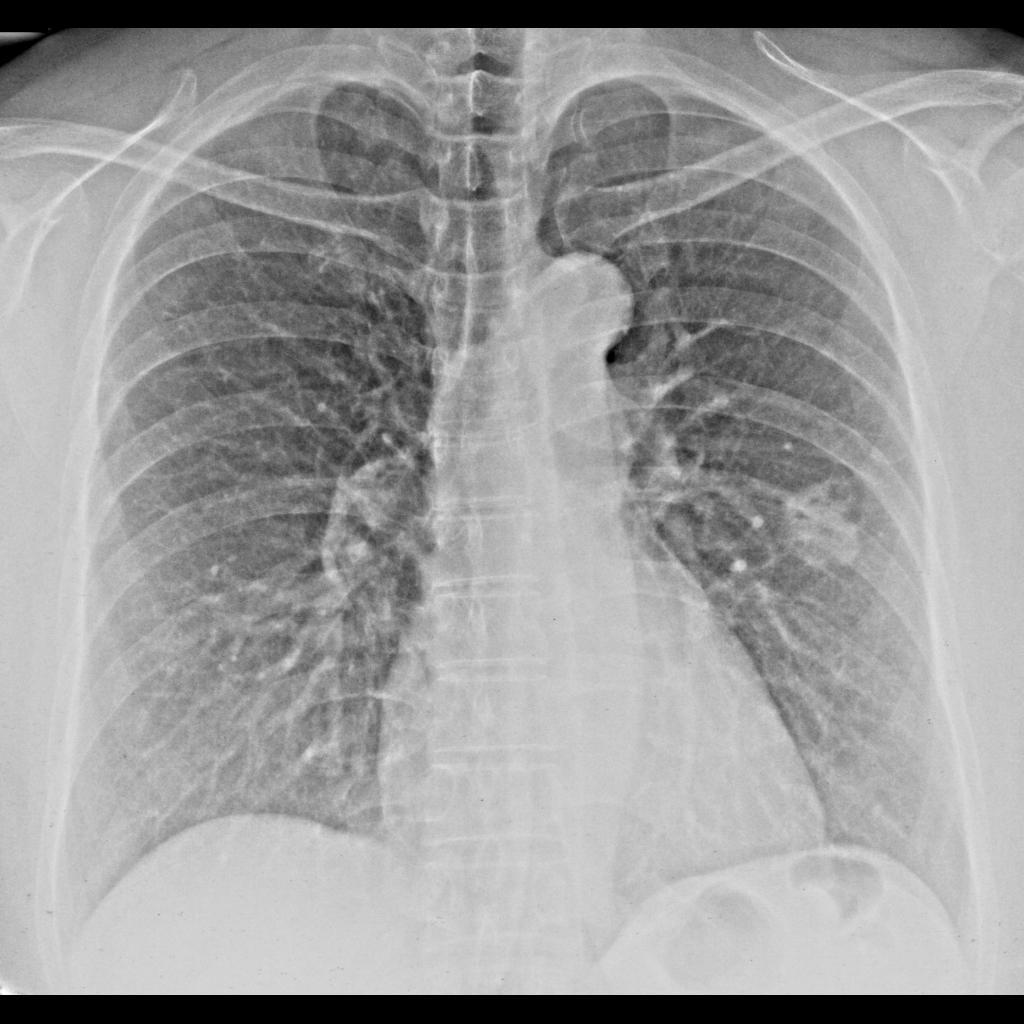Nodule: (773, 479, 870, 576)
